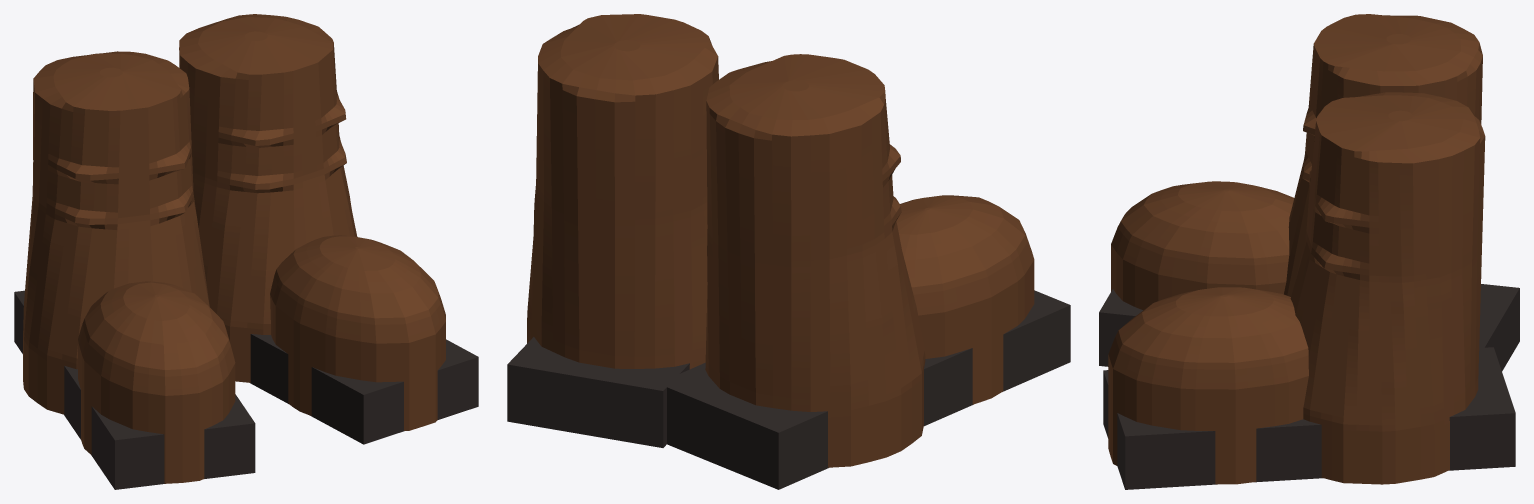
The model's file is Hut_Boots_Col.fbx.
3 renders of one model, left to right at view 1: azimuth 30°, elevation 25°; view 2: azimuth 150°, elevation 25°; view 3: azimuth 270°, elevation 25°, orthographic. The views are drawn at different scales.
Parts seen in each view (by area): view 1: Hut_Boots_Col; view 2: Hut_Boots_Col; view 3: Hut_Boots_Col.
Part boxes in pixels (x1=…): Hut_Boots_Col: x1=14, y1=14, x2=478, y2=489; Hut_Boots_Col: x1=507, y1=14, x2=1070, y2=489; Hut_Boots_Col: x1=1099, y1=14, x2=1519, y2=489.
Bounding box in the file's own units: 13.59 × 10.88 × 12.8.
